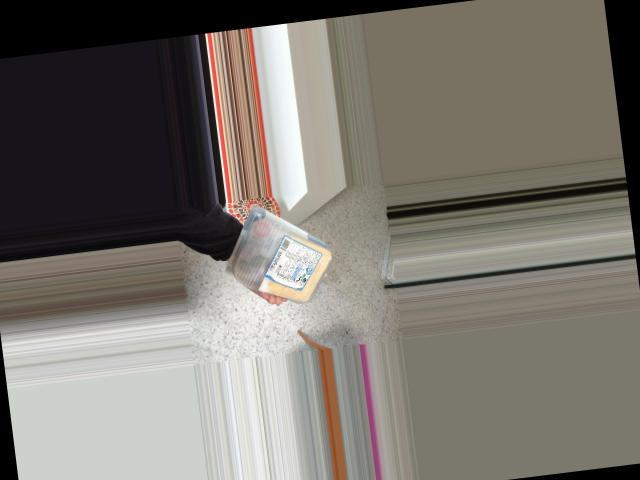cheese: (239, 236, 338, 299)
